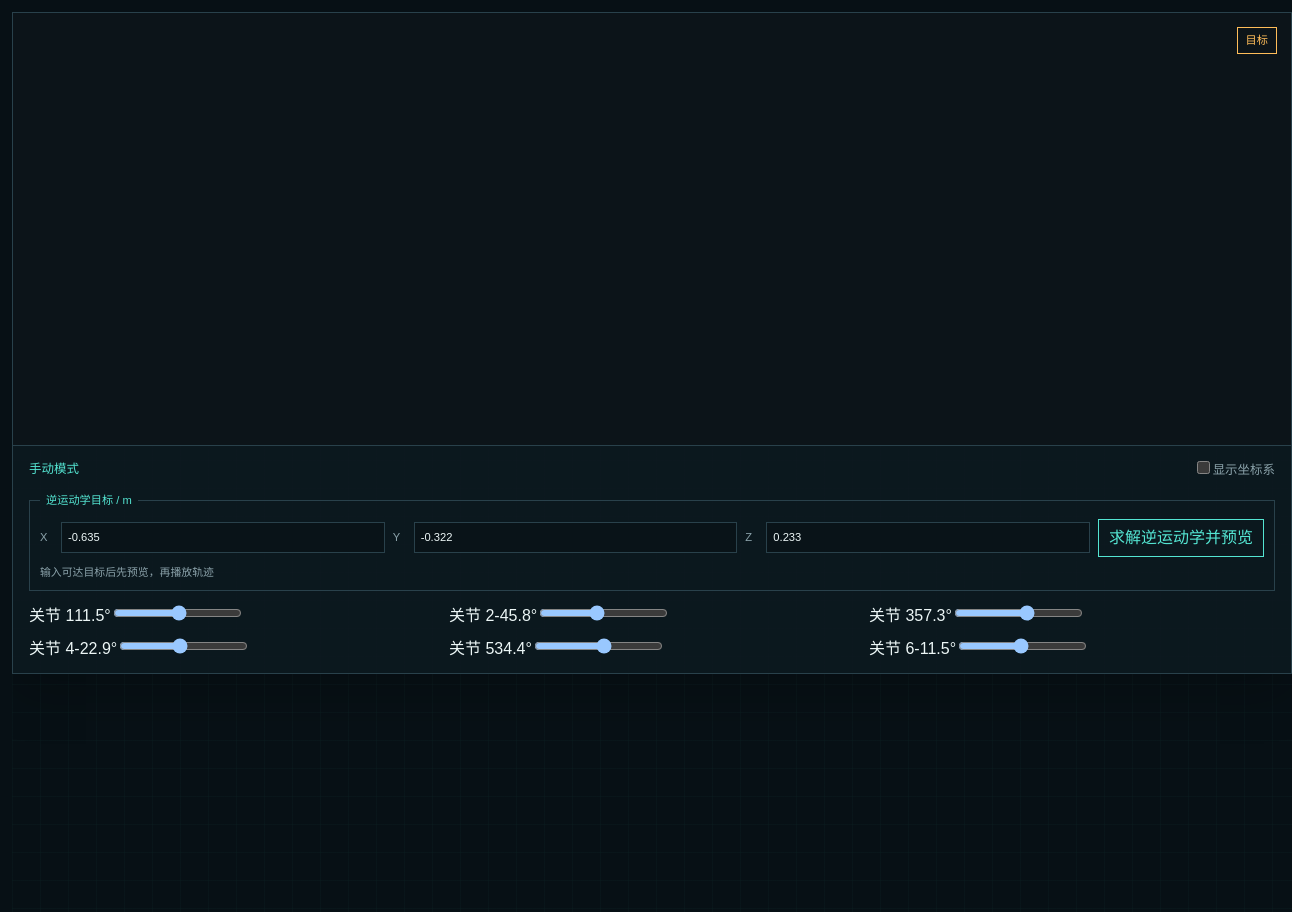
Test: RobotScene › keeps an unfinished X edit local and disables IK solving
Clear the number field named "目标 X" at [223, 538], box [61,522,385,553]
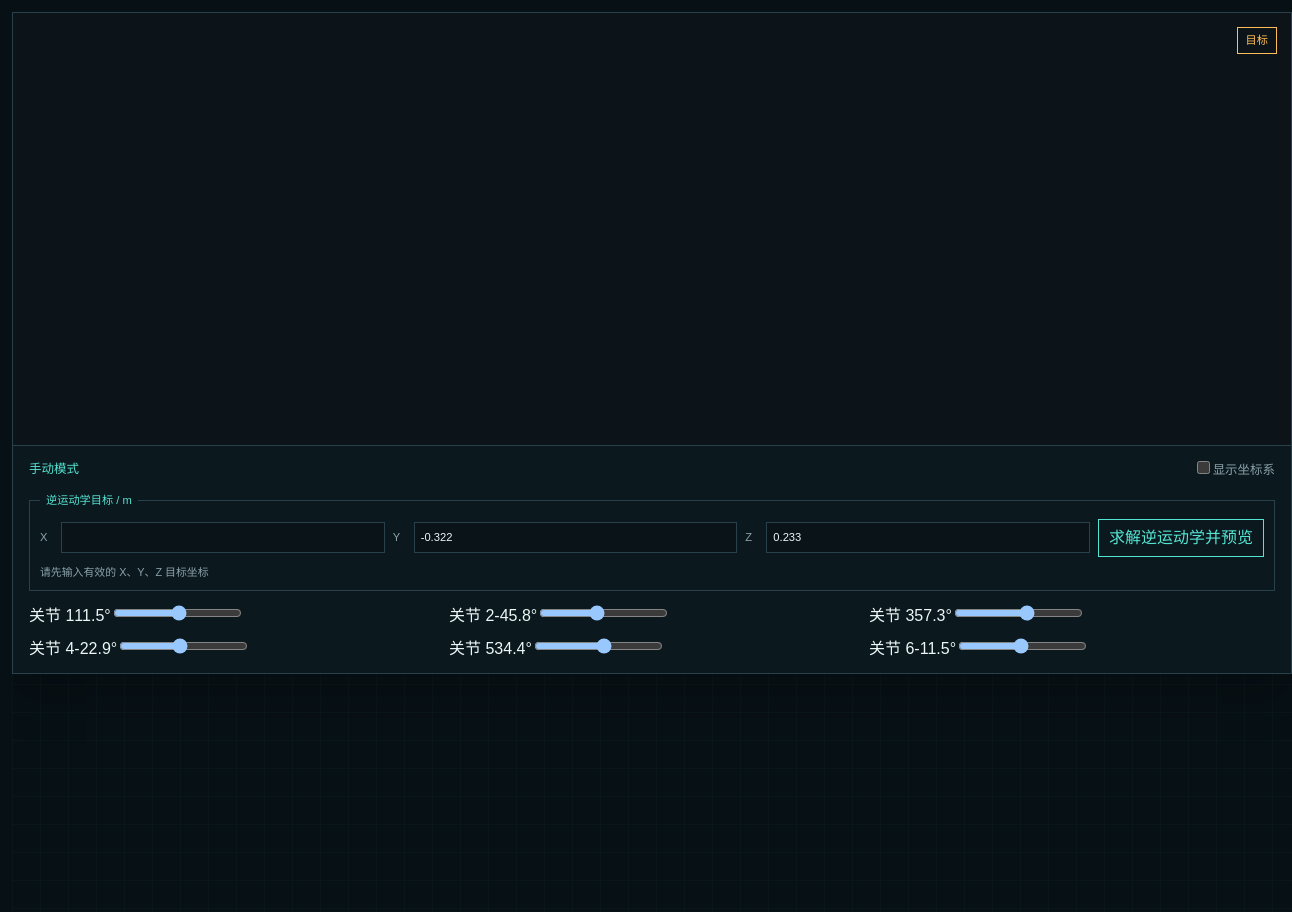
Check: the button "求解逆运动学并预览" is disabled, box [1098,518,1264,556]
Check: the text "请先输入有效的 X、Y、Z 目标坐标" is shown, box [40,566,209,578]
